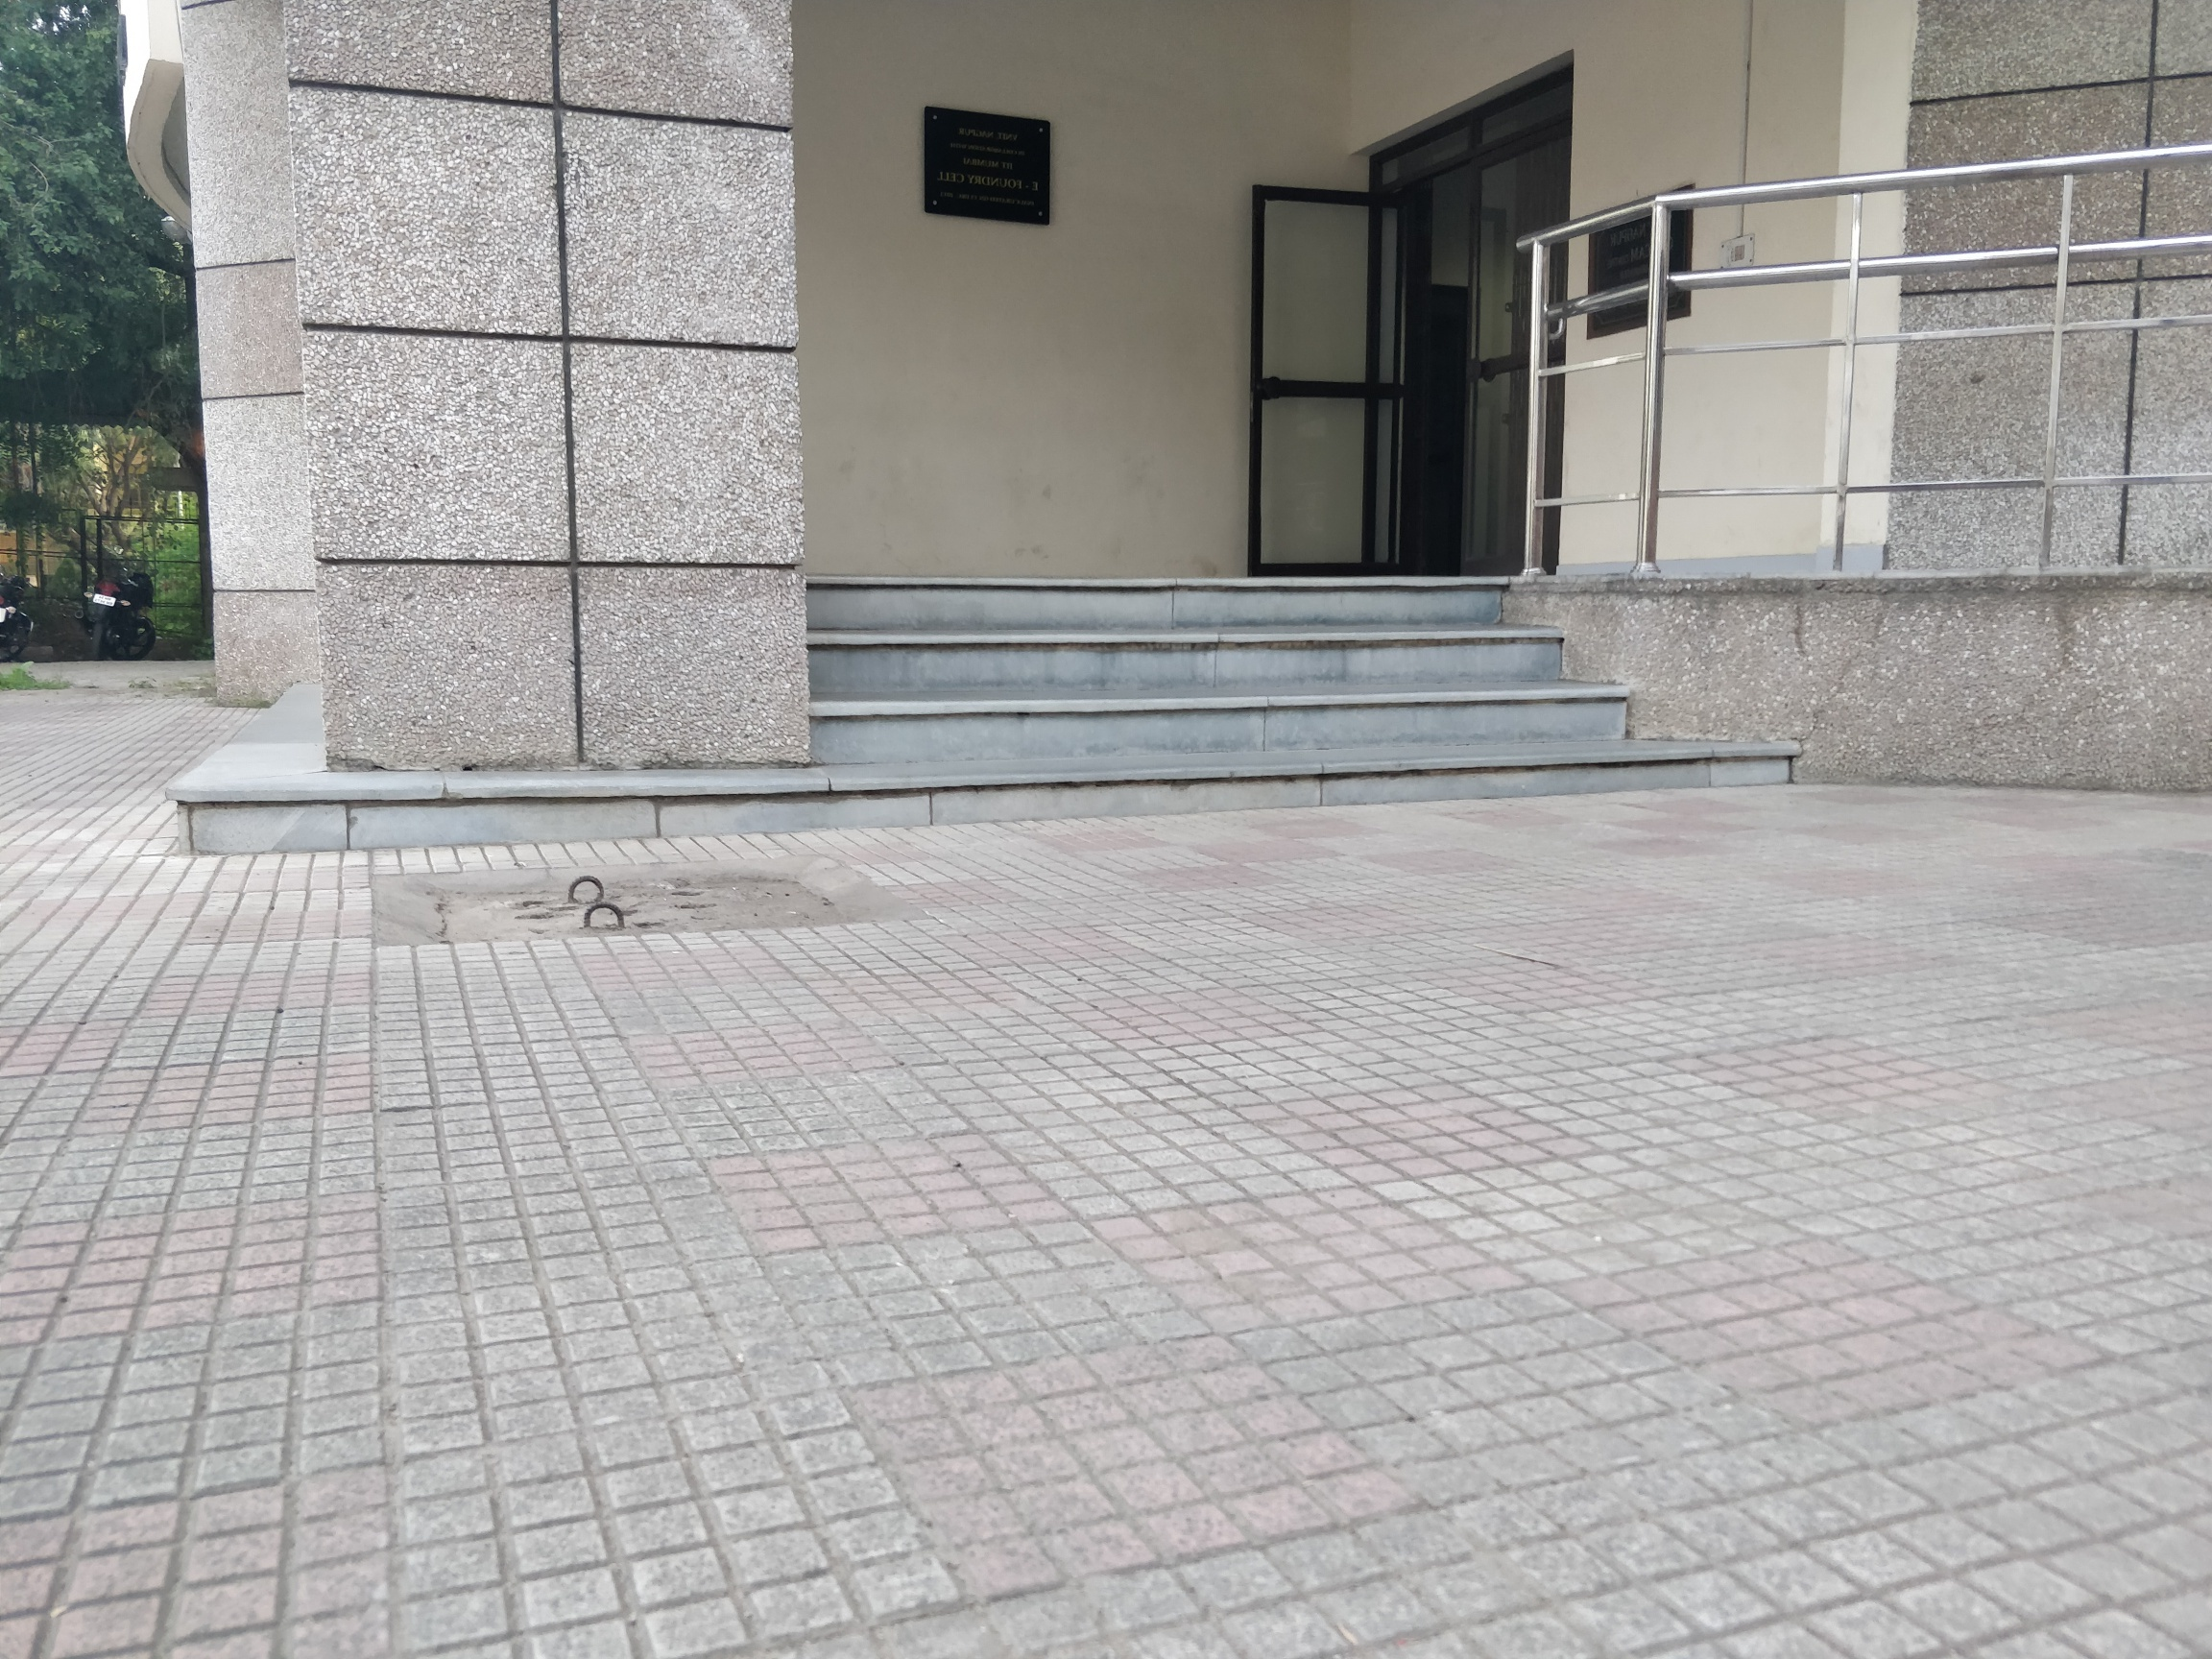stairs_up: (711, 547, 1825, 845)
